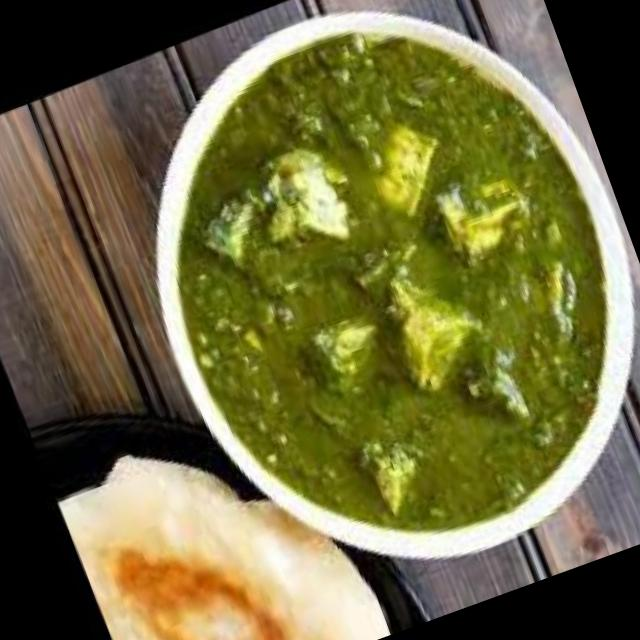palak_paneer: (99, 0, 640, 599)
